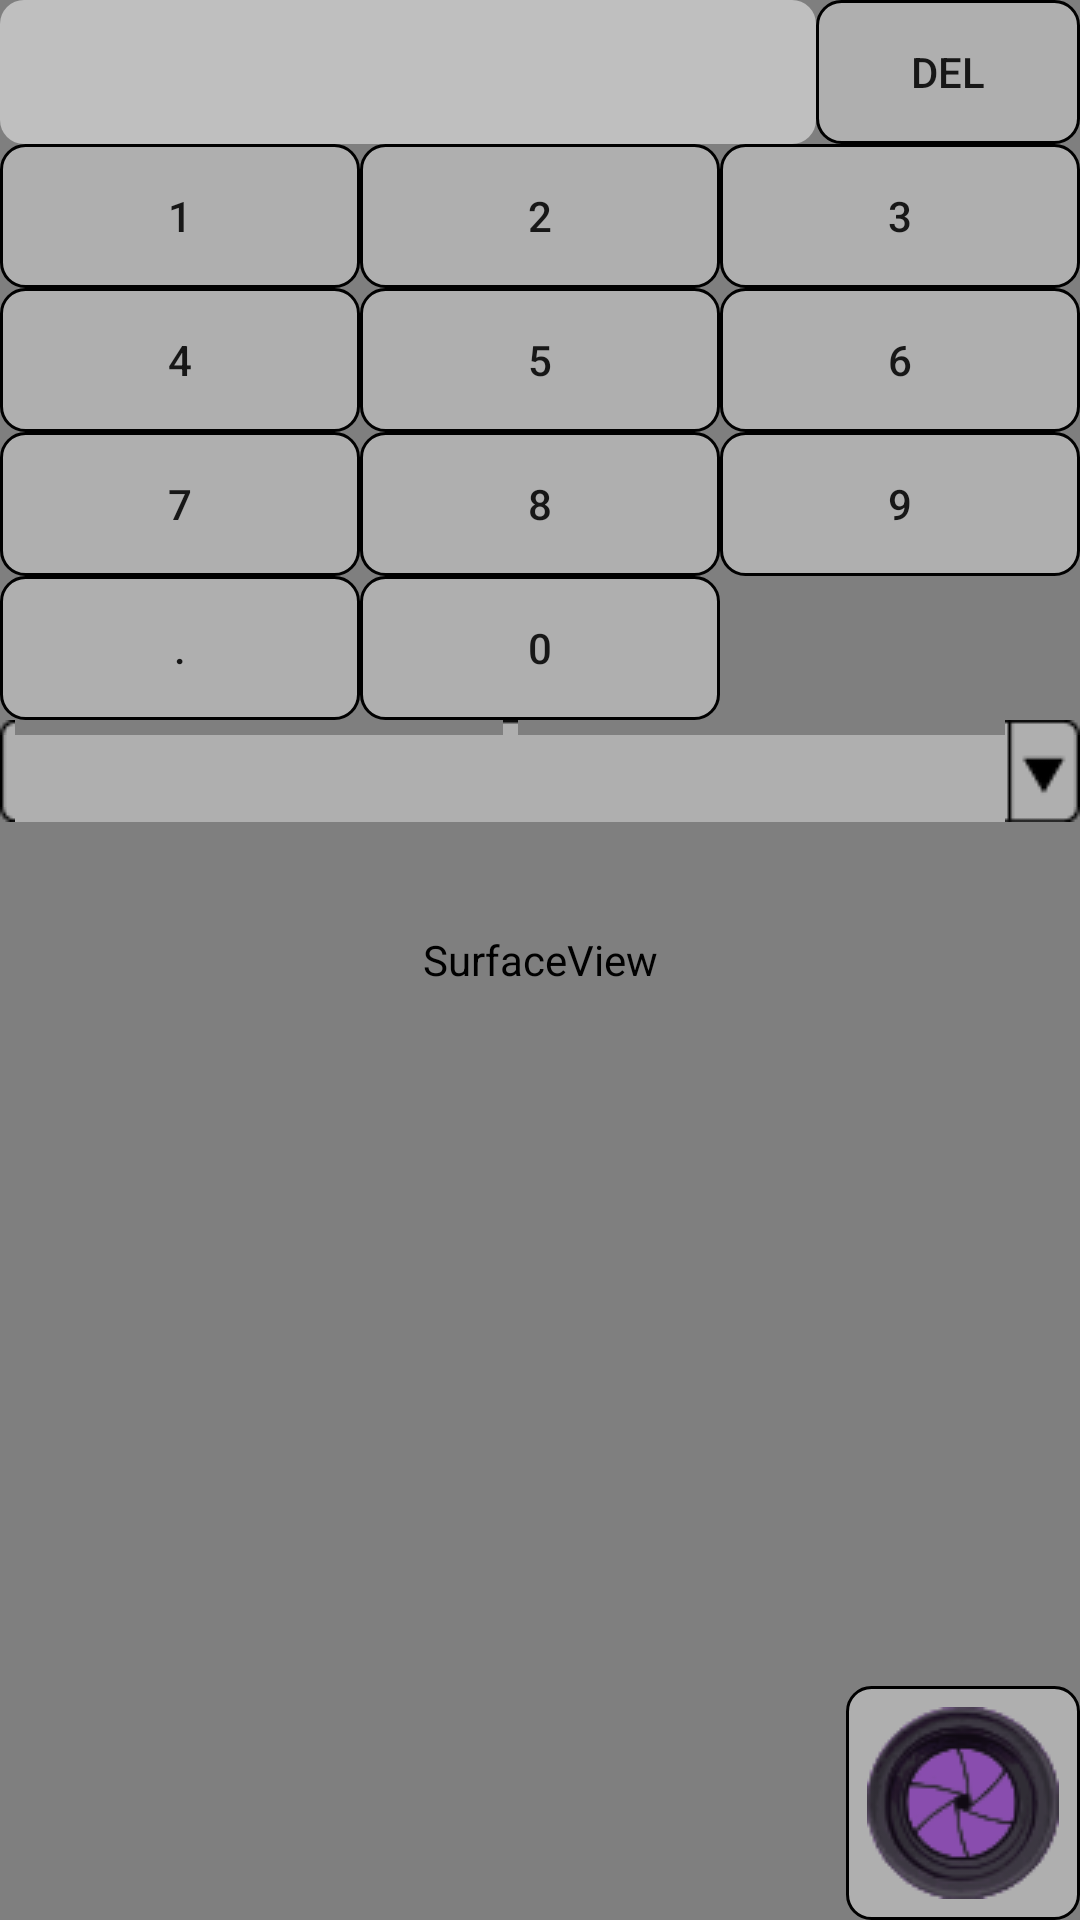

Icons on this 1080w x 1920h Android screen, each with its box as (x1, y1, x2, y2):
camera aperture: (846, 1686, 1080, 1920)
